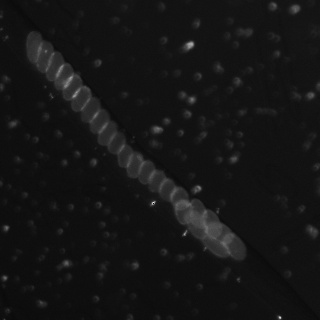embryo: (221, 231, 246, 260), (34, 40, 54, 73), (186, 210, 207, 240), (201, 235, 229, 257), (208, 221, 233, 245), (45, 51, 64, 81), (26, 31, 43, 64), (189, 199, 207, 230), (169, 186, 190, 212), (62, 73, 82, 100), (204, 210, 222, 239), (71, 85, 91, 111), (81, 97, 101, 123), (97, 120, 117, 146), (54, 62, 73, 89), (90, 109, 110, 134), (148, 169, 168, 194), (126, 151, 143, 178), (138, 160, 157, 184), (174, 200, 192, 224), (107, 131, 125, 154), (158, 178, 176, 201), (117, 144, 133, 168)
